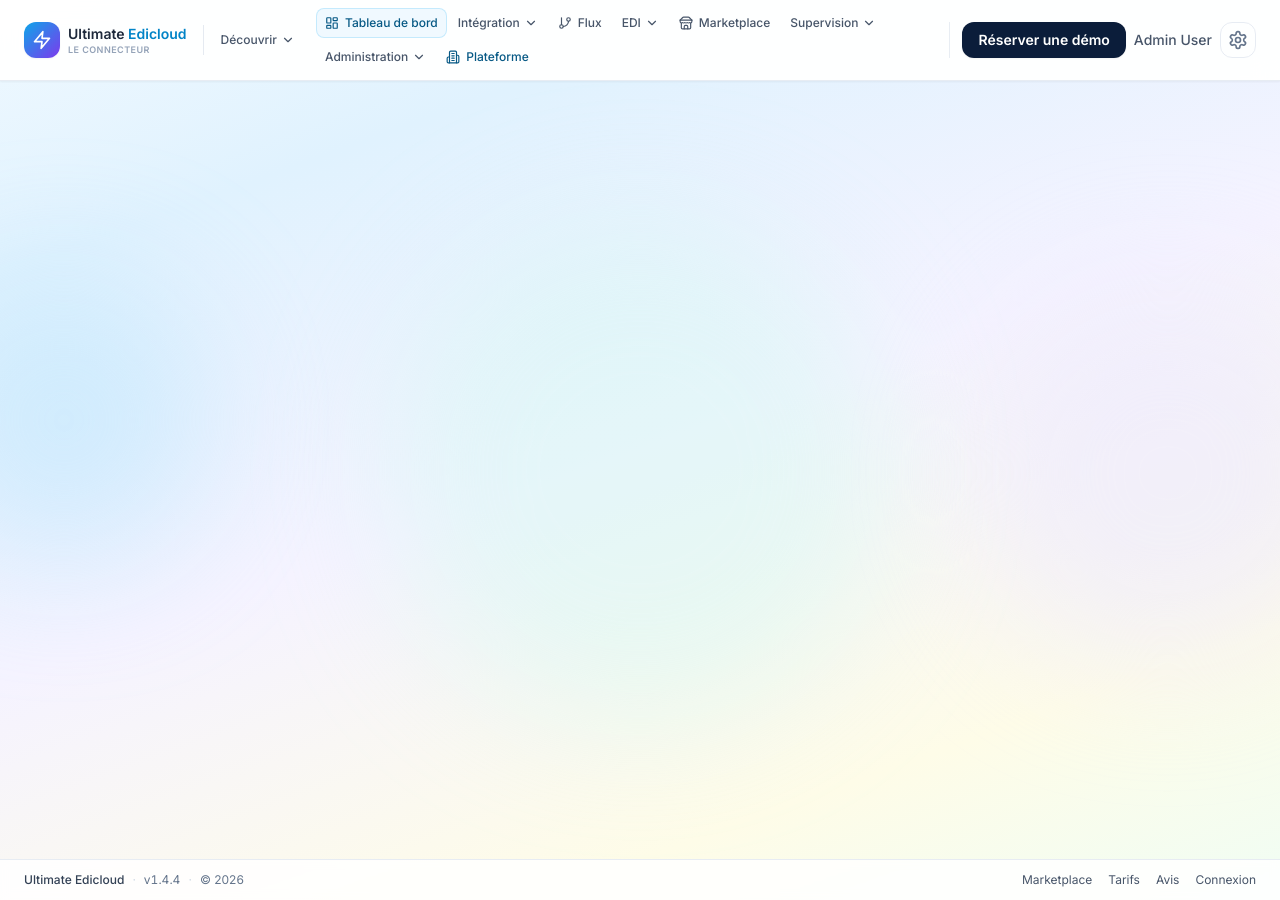
Navigation — liens du layout › menu Supervision : alertes vers /monitoring, hub pipeline vers /hub/pipeline
Click the button "Supervision" at {"x": 833, "y": 23}, box [781,8,885,38]
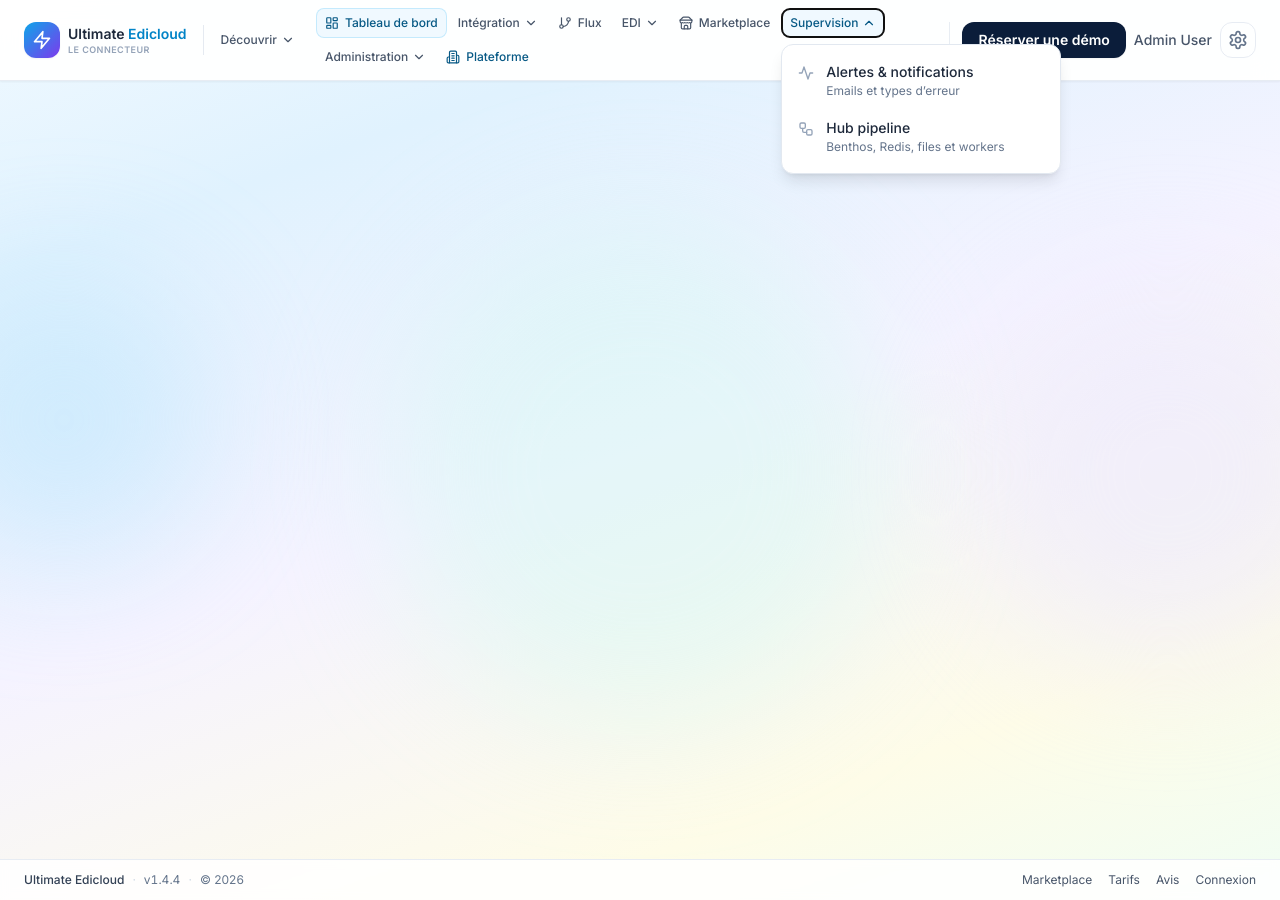
Expected: the menu item "Alertes & notifications Emails et types d’erreur" is shown, [798,63,974,98]
